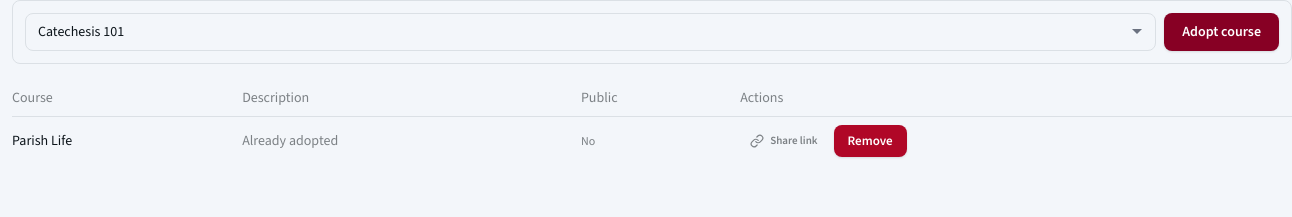
Test case: ParishCourseAdoptionManager › shows error message when adoption response is non-ok with json error
Click the button "Adopt course" at (1222, 32), box [1164, 13, 1279, 51]
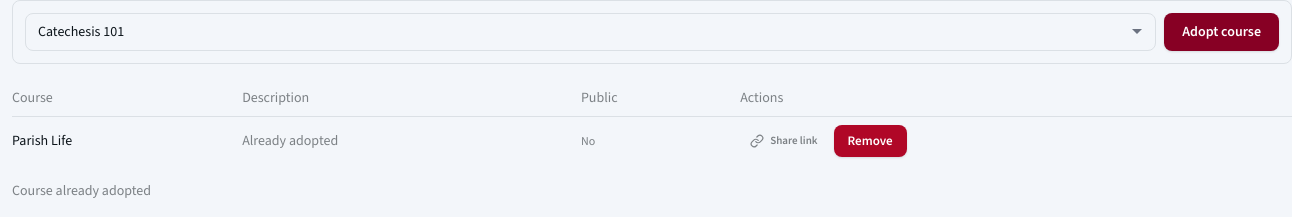
Now the text "Course already adopted" is shown, box [12, 181, 151, 200]
